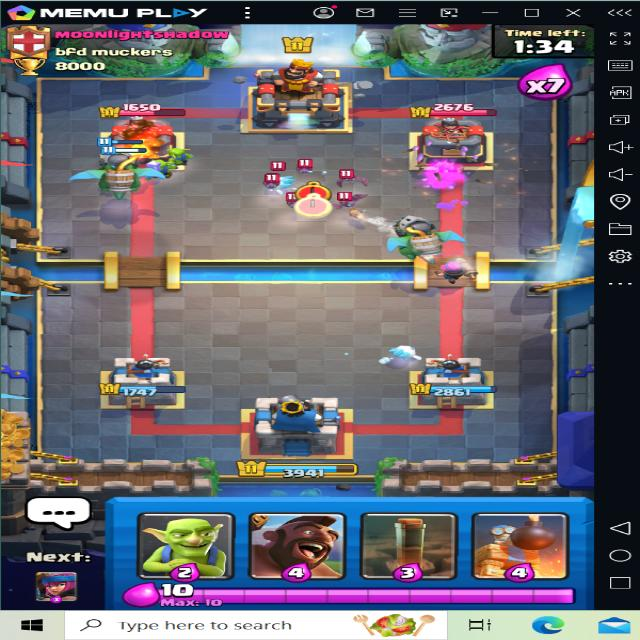Bat: (326, 189, 372, 217), (332, 167, 377, 189), (292, 157, 321, 177), (262, 175, 282, 192)
Icespirit: (255, 161, 303, 202)
